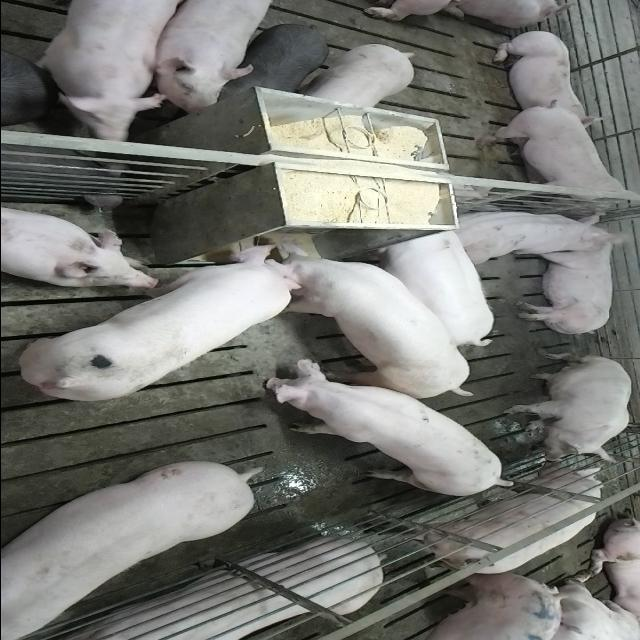Feeding: (15, 240, 308, 405), (256, 236, 474, 402)
Lateral_lying: (512, 222, 630, 338)
Sitting: (502, 354, 632, 464)
Standing: (0, 464, 257, 640), (256, 359, 514, 498), (386, 460, 602, 578), (23, 2, 190, 142), (472, 100, 637, 212), (364, 225, 496, 350), (144, 3, 279, 115), (386, 571, 565, 640), (212, 23, 330, 105), (298, 43, 414, 109)
Sternal_lying: (34, 540, 378, 640), (0, 201, 159, 289), (485, 28, 603, 122), (450, 206, 618, 264)
